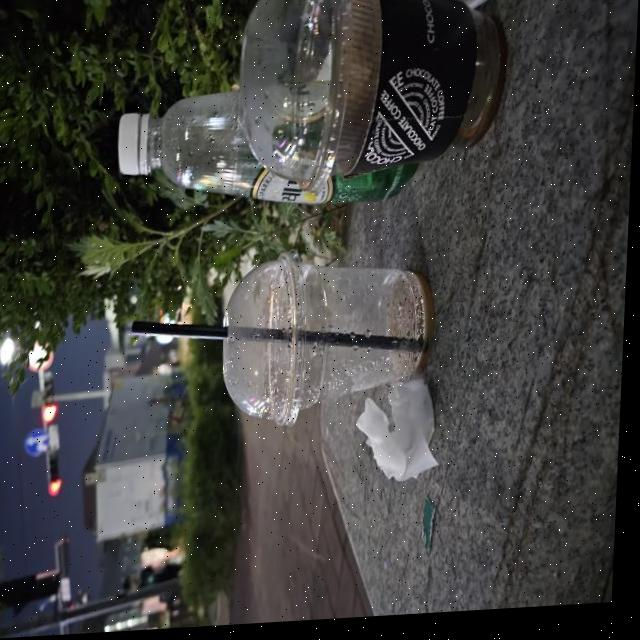cup: (231, 0, 512, 204), (220, 243, 440, 435)
